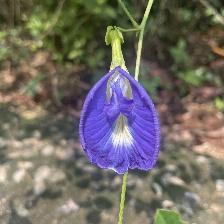shankupushpam: (76, 64, 166, 179)
